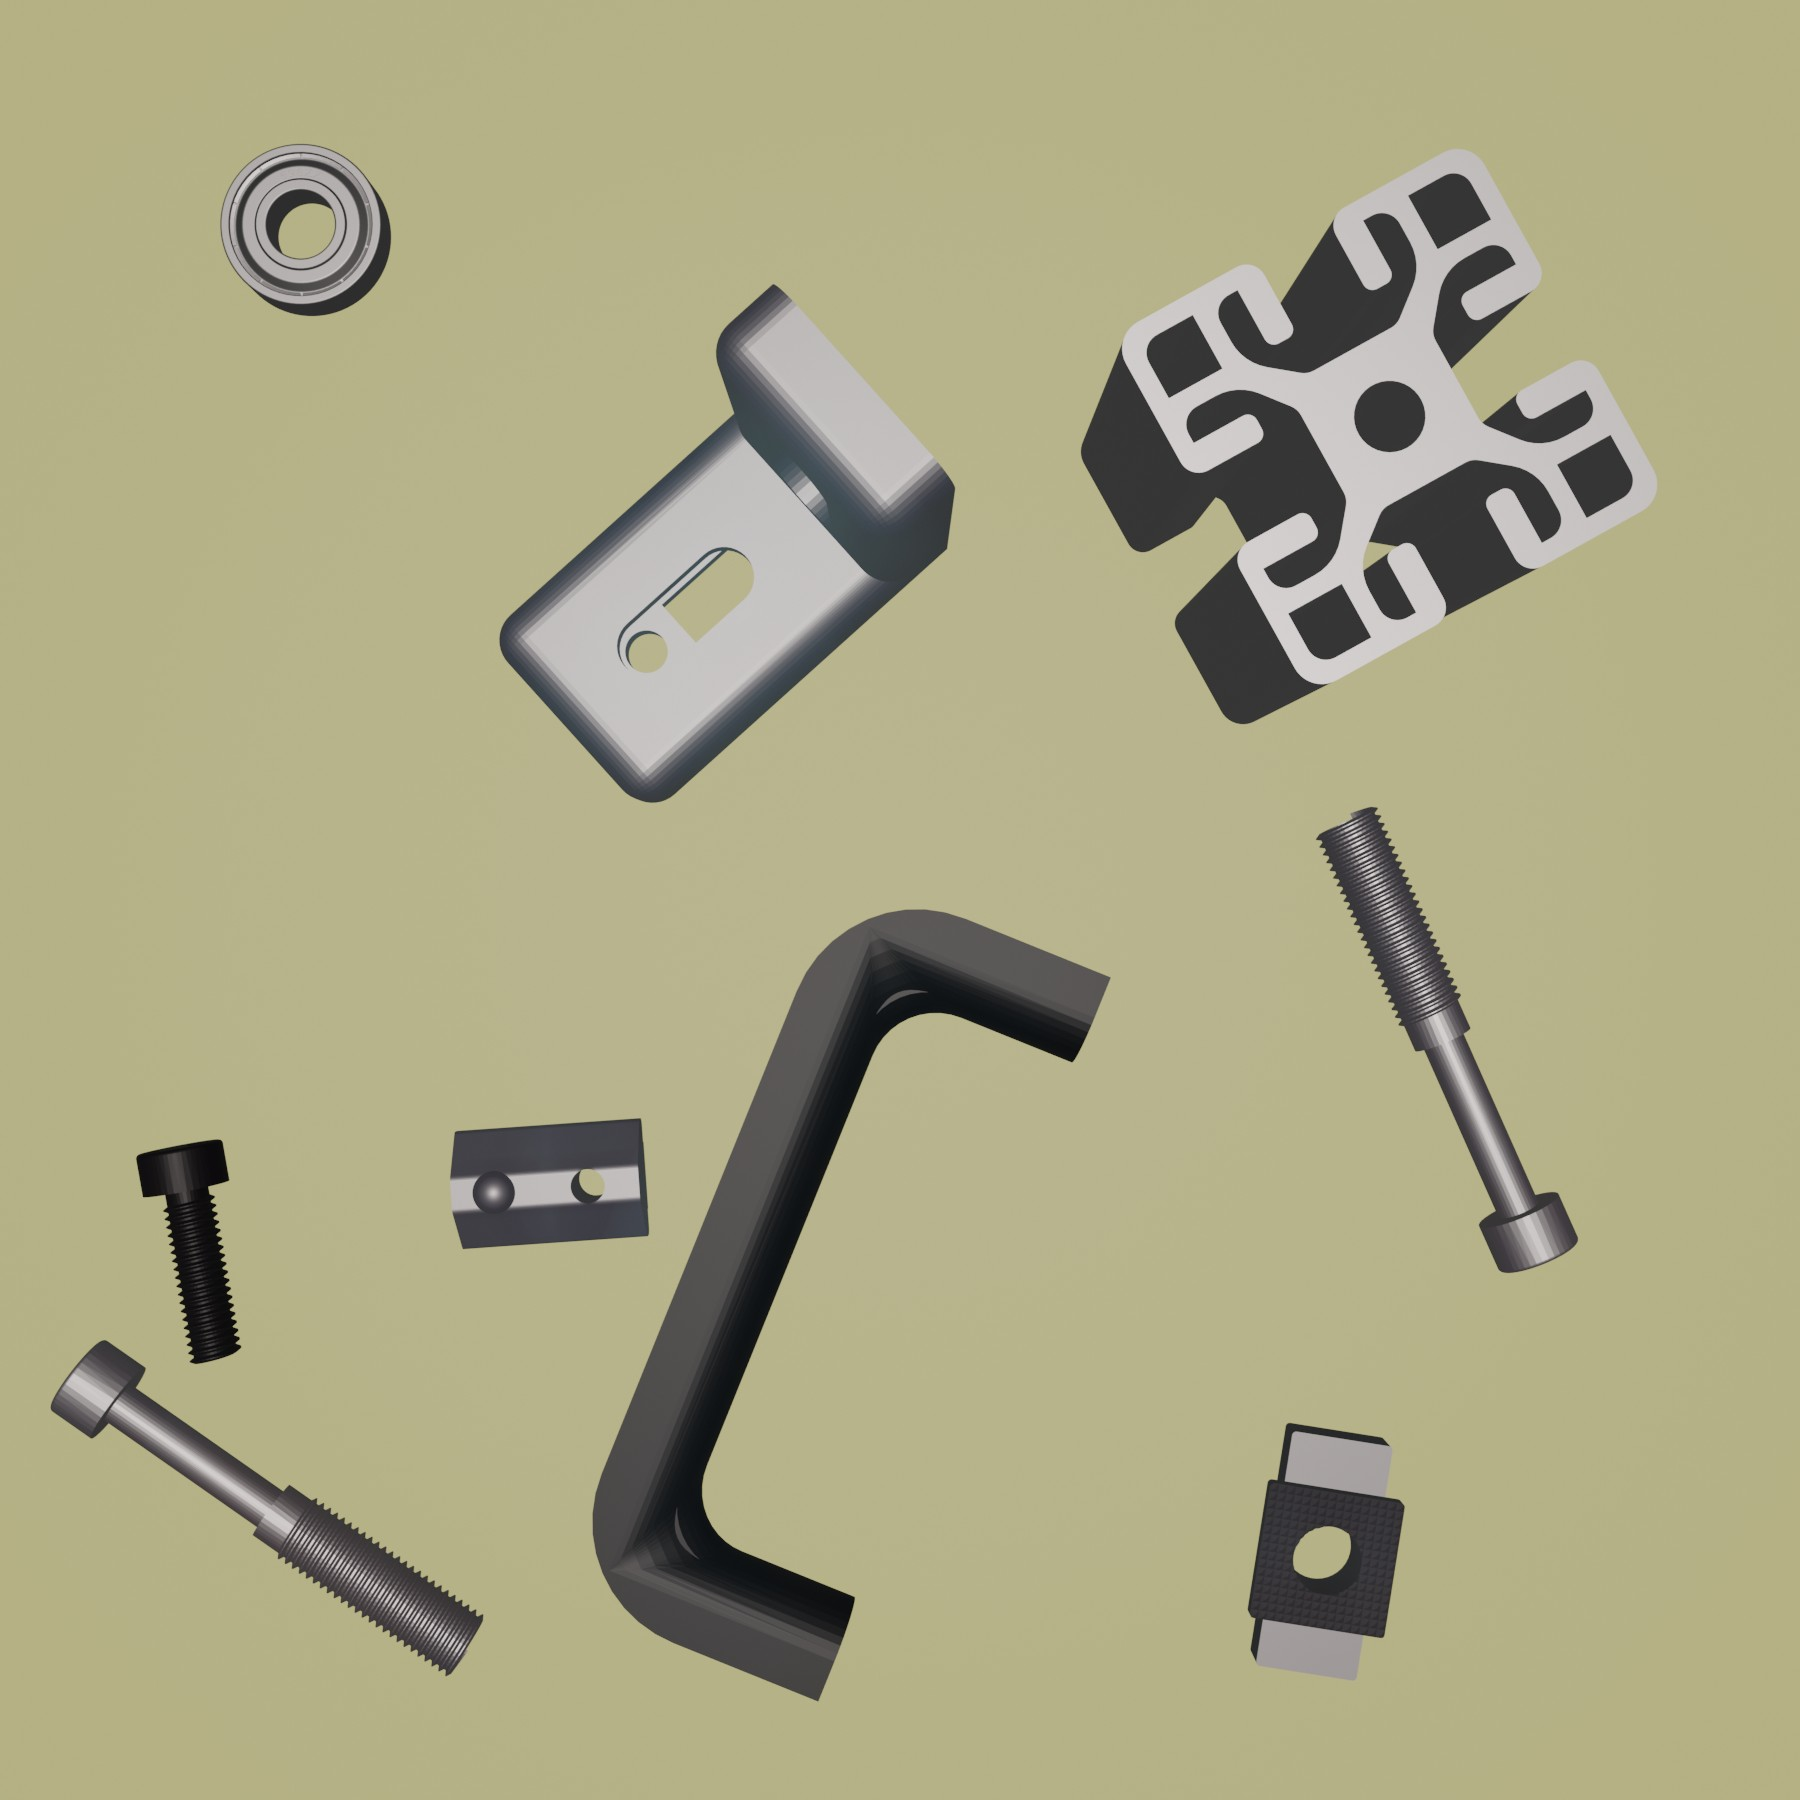Aluminium Extension: (1080, 147, 1658, 725)
Ball Bearing: (219, 142, 392, 318)
Multiwinkel: (498, 282, 958, 804)
Pull Handle: (592, 907, 1111, 1703)
Shoulder Socket Head Cap Screw: (46, 1335, 490, 1680), (1310, 803, 1581, 1276)
Socket Head Cap Screw: (134, 1136, 242, 1366)
T Nut Square: (1246, 1418, 1409, 1685)
T Spring Nut: (447, 1114, 653, 1253)
